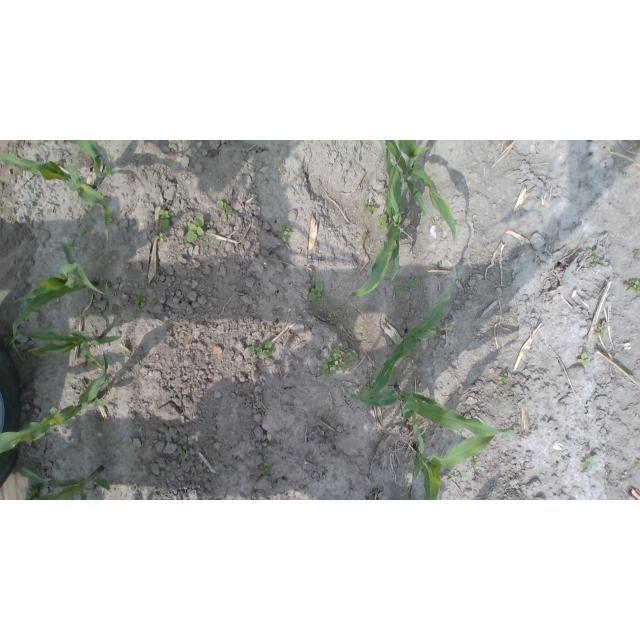Maize: (341, 264, 457, 401), (12, 233, 108, 359), (0, 351, 108, 454), (409, 406, 527, 500), (342, 383, 519, 437), (0, 153, 108, 241), (346, 149, 404, 297), (384, 141, 456, 242), (9, 329, 123, 371), (22, 464, 113, 500), (74, 141, 112, 180)
Weeds: (318, 346, 357, 381), (187, 217, 214, 243), (248, 341, 272, 359), (587, 249, 608, 265), (159, 210, 175, 230), (276, 224, 291, 242), (446, 470, 463, 485), (309, 284, 324, 301), (365, 200, 380, 216), (623, 279, 640, 293), (133, 290, 146, 306), (216, 201, 232, 214), (376, 214, 388, 231), (201, 237, 220, 247), (582, 459, 598, 470), (577, 353, 589, 367), (27, 486, 39, 500), (362, 378, 375, 390), (154, 233, 166, 246), (498, 373, 510, 385), (178, 445, 187, 460), (259, 463, 269, 476), (471, 456, 481, 469), (408, 279, 421, 288), (593, 327, 605, 336), (393, 286, 403, 296), (327, 314, 335, 325), (277, 167, 284, 178), (634, 248, 640, 260), (267, 322, 275, 331), (258, 413, 267, 420), (623, 173, 629, 180), (362, 235, 368, 242), (239, 246, 244, 251), (636, 459, 640, 465)
